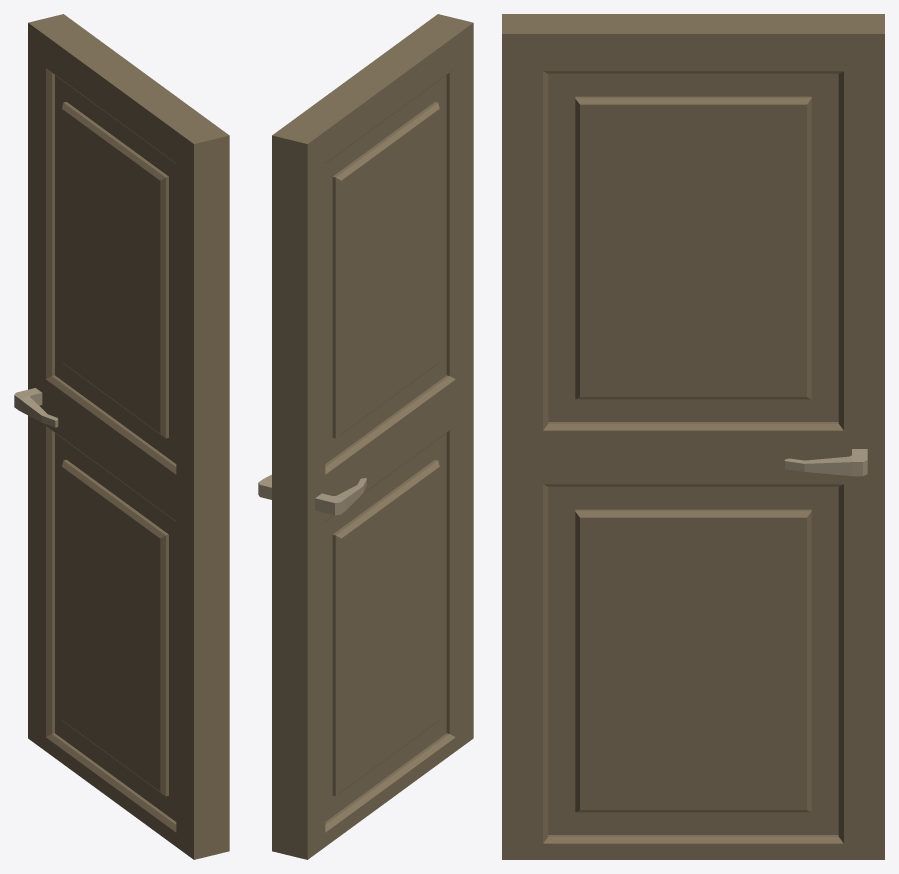
The model's file is door.fbx.
3 views of the same model, side by side, from view 1: azimuth 30°, elevation 25°; view 2: azimuth 150°, elevation 25°; view 3: azimuth 270°, elevation 25° (orthographic). The views are drawn at different scales.
Visible parts, largest first — view 1: Cube, Cube.002; view 2: Cube, Cube.002; view 3: Cube, Cube.001.
Part boxes in pixels (x1,y1,x2,y2): Cube: [28, 14, 229, 859]; Cube.002: [14, 388, 58, 427]; Cube: [272, 14, 473, 859]; Cube.002: [315, 478, 366, 515]; Cube: [502, 14, 884, 859]; Cube.001: [784, 449, 867, 476].
Bounding box in the file's own units: 22.83 × 190 × 80.01.
